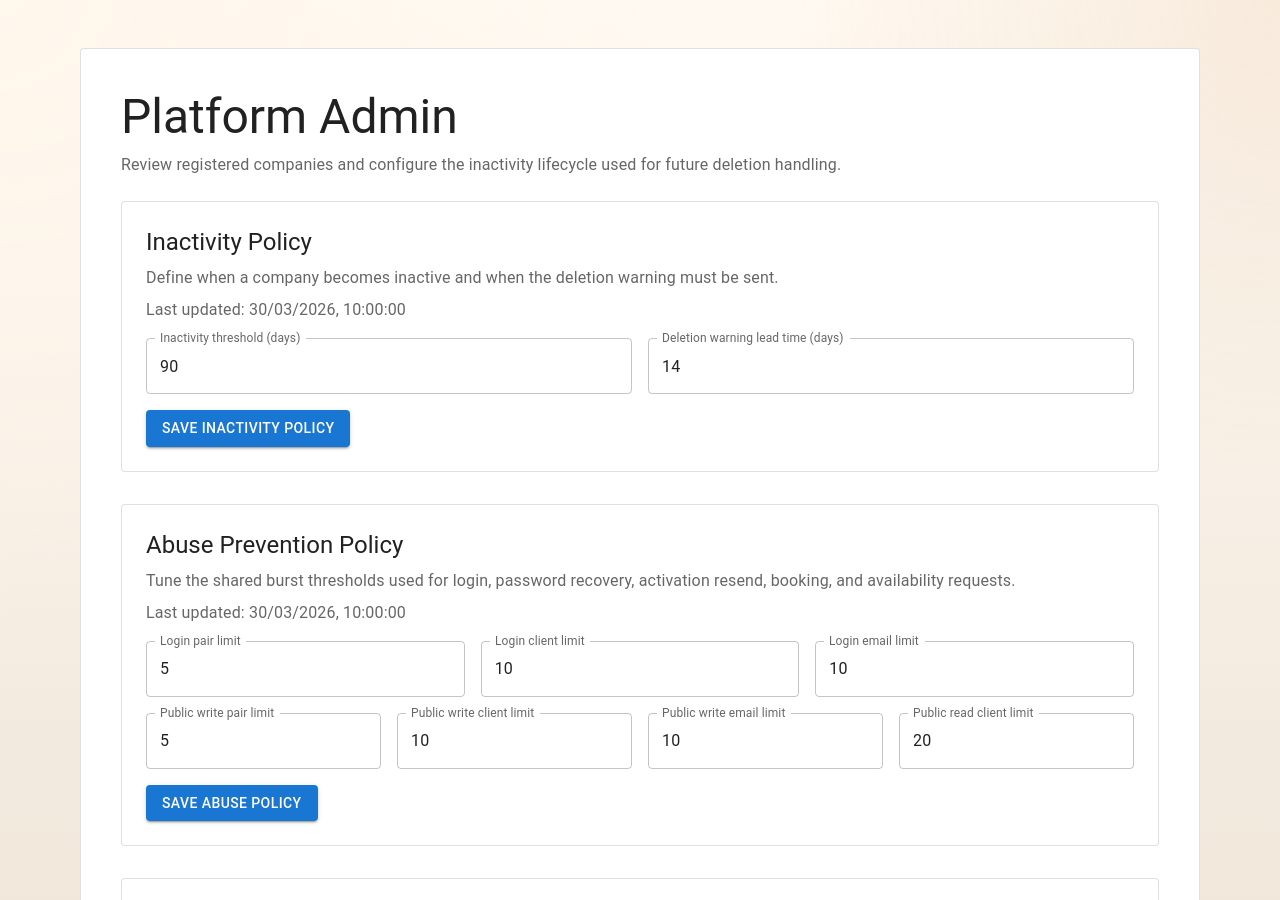
it: PlatformAdminCompanyListScreen › validates the policy form before save
Replace the text in the number field labelled "Inactivity threshold (days)" with "30" at coordinates (389, 366), box [146,338,632,394]
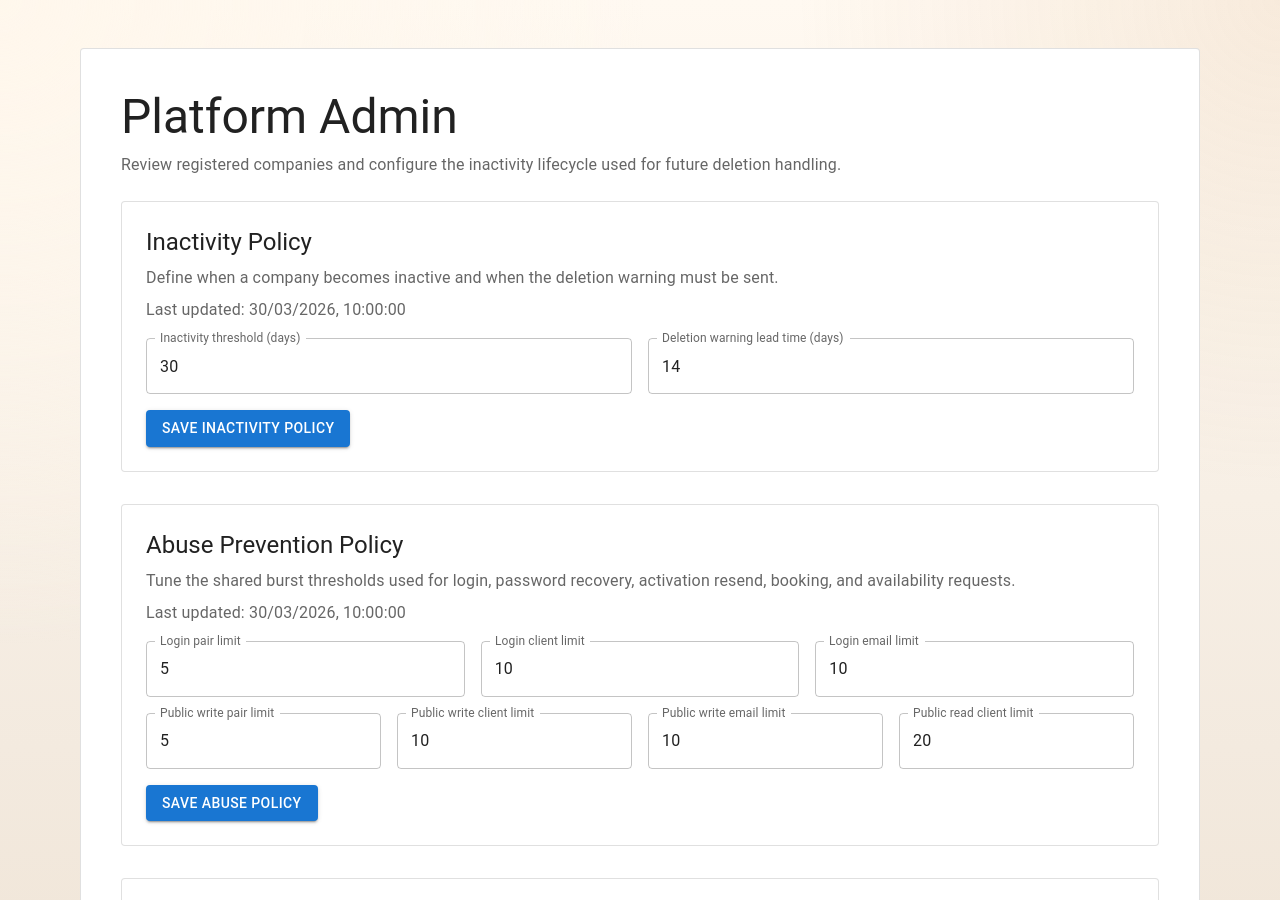
Replace the text in the number field labelled "Deletion warning lead time (days)" with "45" at coordinates (891, 366), box [648,338,1134,394]
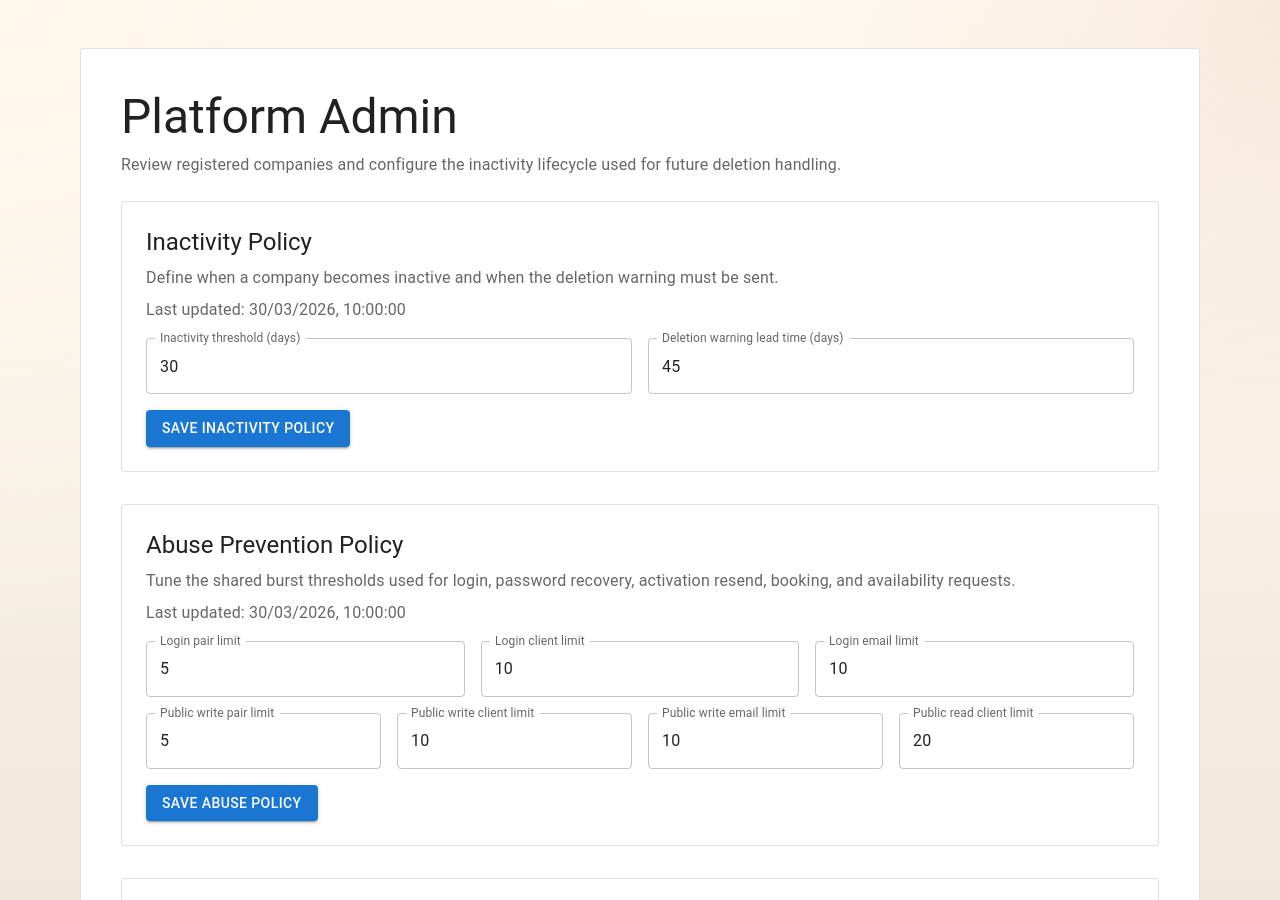
Click the button "Save inactivity policy".
click(248, 428)  # box [146,410,350,446]
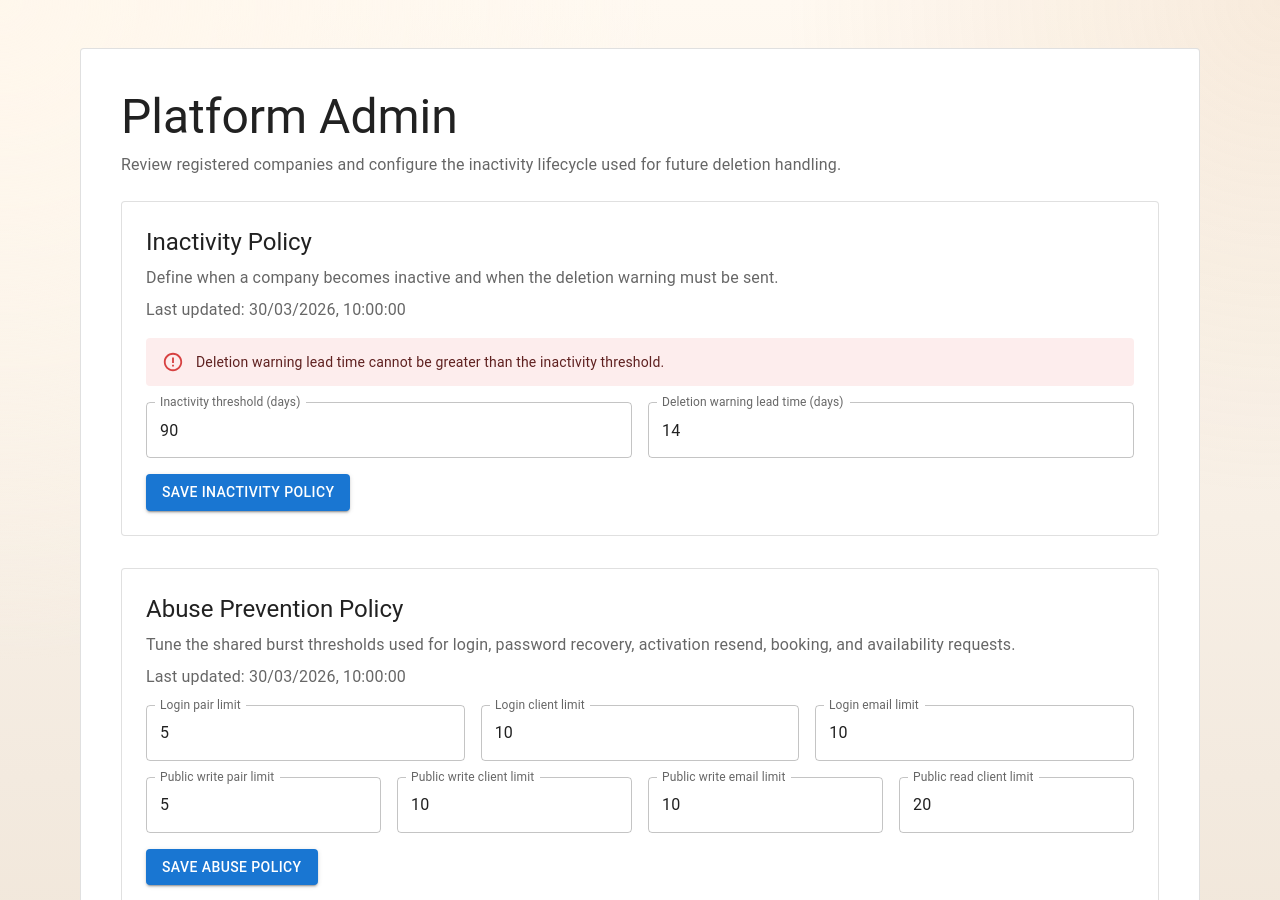
expect the text "Deletion warning lead time cannot be greater than the inactivity threshold." is shown: met, box [196,354,664,370]
